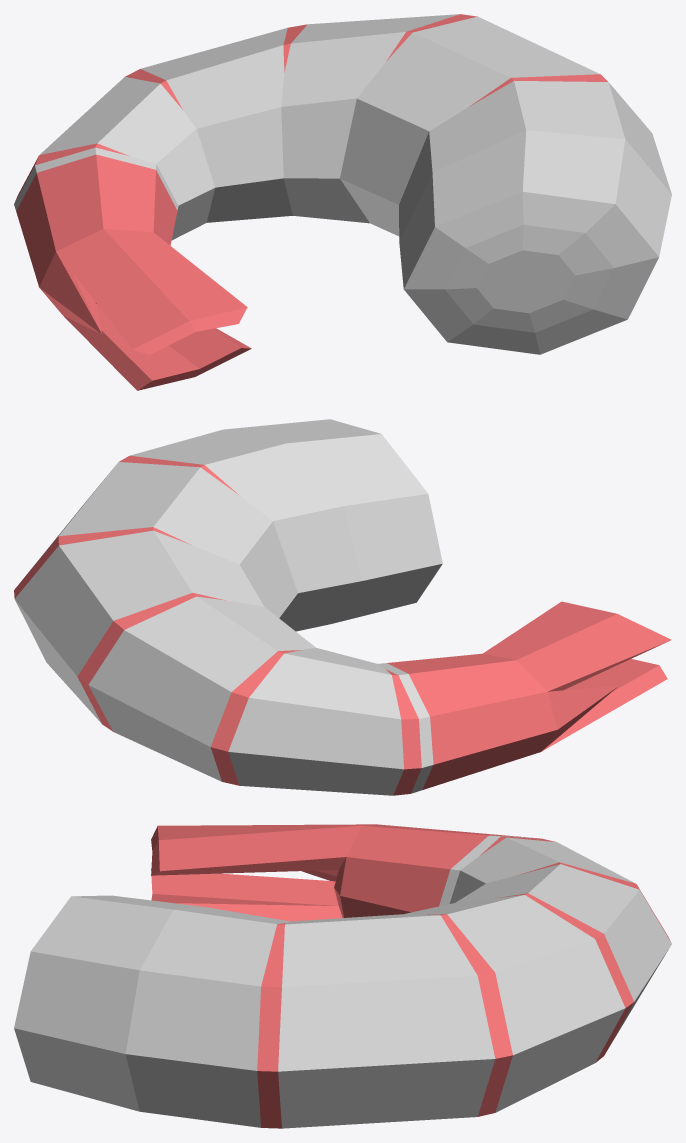
Rendered from shrimp_meat_raw.glb.
The picture shows the model from 3 angles, top to bottom: view 1: azimuth 30°, elevation 25°; view 2: azimuth 150°, elevation 25°; view 3: azimuth 270°, elevation 25°; orthographic projection. The views are drawn at different scales.
Parts seen in each view (by area): view 1: shrimp_meat_raw; view 2: shrimp_meat_raw; view 3: shrimp_meat_raw.
Boxes of the visible parts, x1,y1,x2,y2 form: shrimp_meat_raw: [14, 14, 671, 390]; shrimp_meat_raw: [14, 419, 671, 795]; shrimp_meat_raw: [14, 824, 671, 1128].
Size of the model in its own units: 0.1861 by 0.058 by 0.1776.
